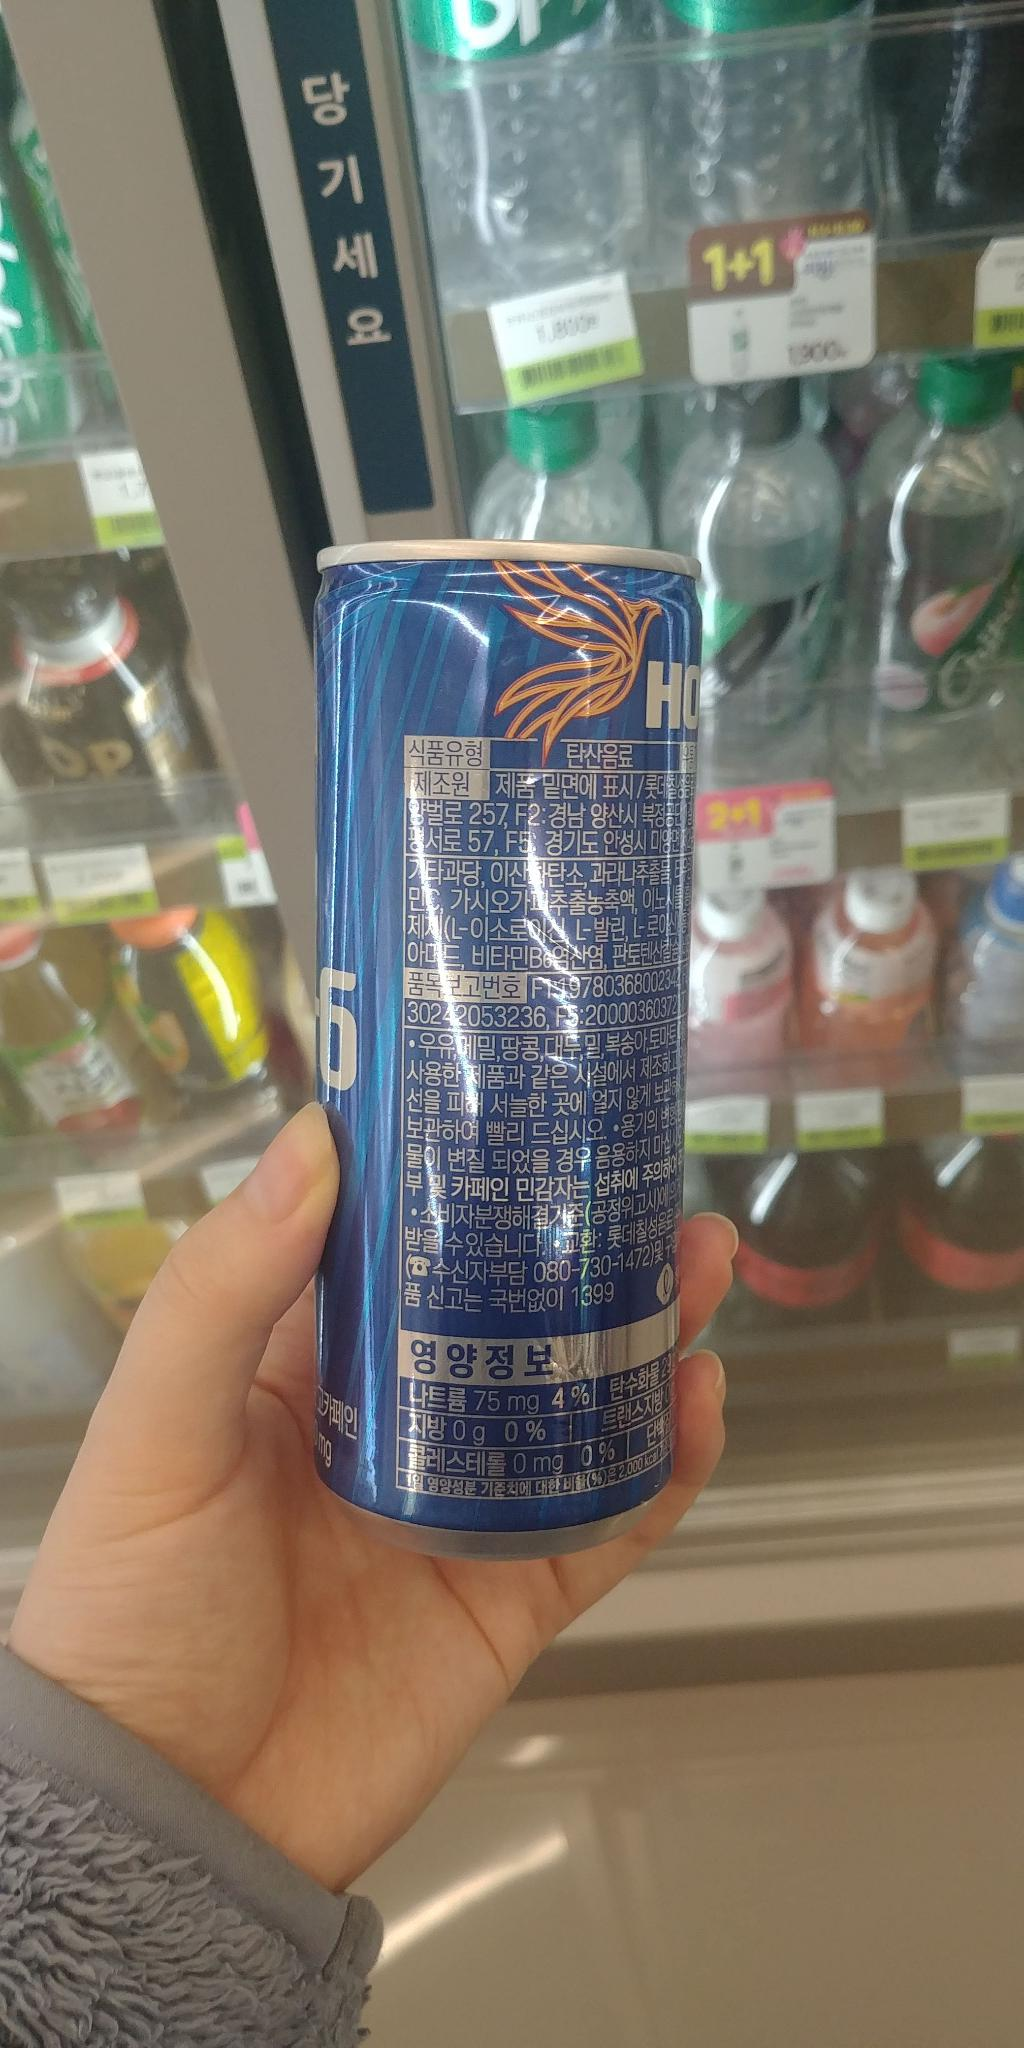hotsix_org: (269, 519, 725, 1579)
